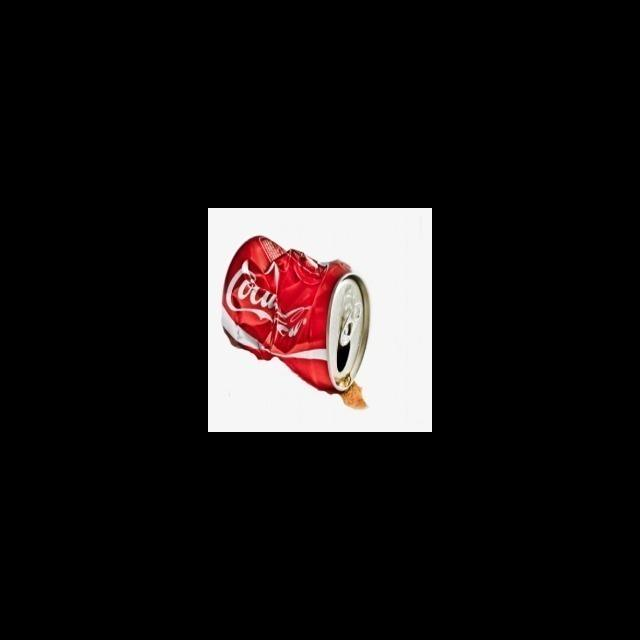metal: (219, 228, 373, 395)
